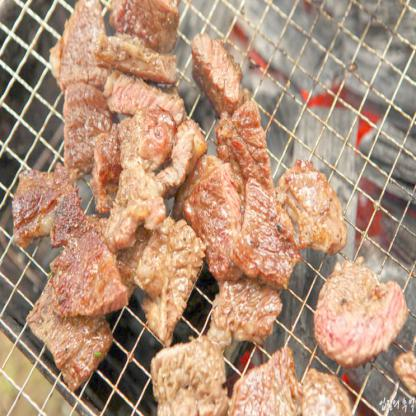Carne: (46, 212, 122, 328), (234, 183, 312, 291), (130, 207, 196, 331), (178, 164, 245, 268), (98, 61, 190, 135), (10, 164, 84, 248), (102, 25, 188, 94), (52, 0, 115, 94), (142, 348, 230, 415), (36, 284, 100, 370), (222, 347, 302, 415), (187, 24, 252, 104), (286, 173, 352, 248), (216, 102, 272, 190), (218, 279, 288, 347), (63, 71, 101, 181), (110, 0, 181, 58), (303, 368, 349, 416)
